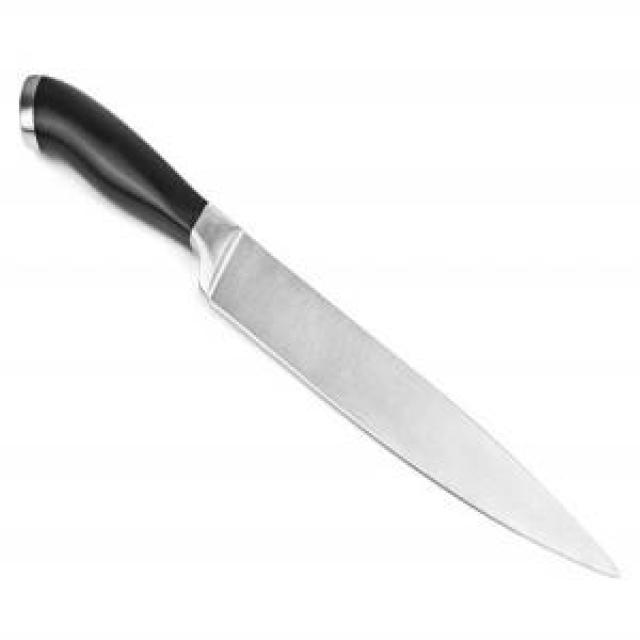knife: (19, 72, 625, 584)
